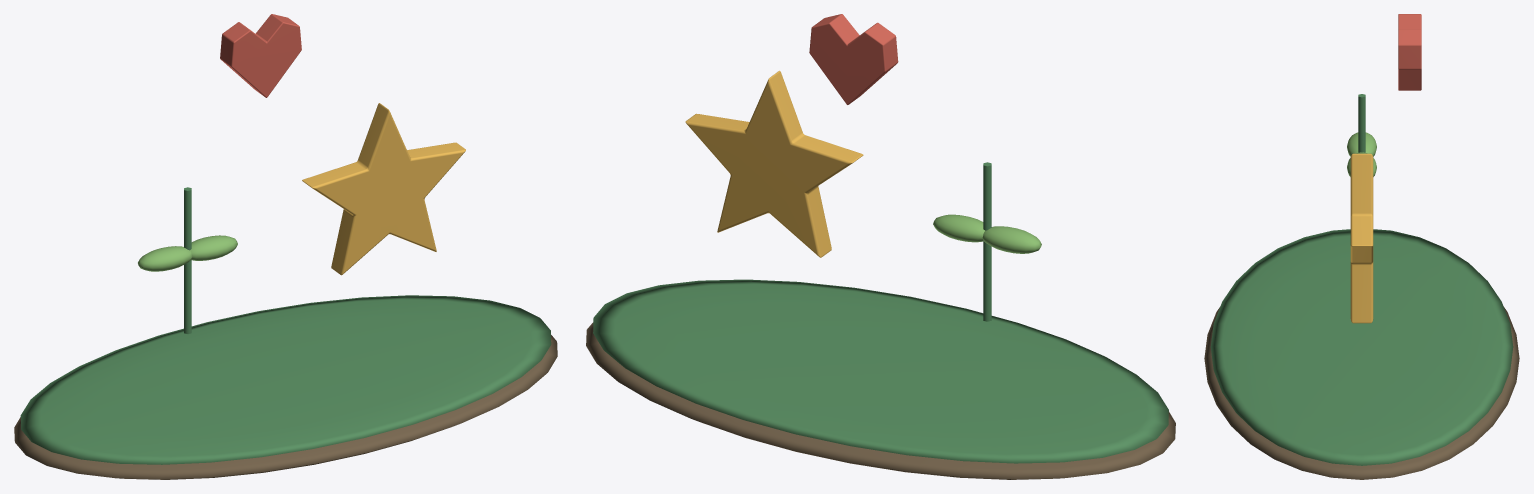
Rendered from complete-third-growing-idea-life-force.glb.
3 views of the same model, side by side, from view 1: azimuth 30°, elevation 25°; view 2: azimuth 150°, elevation 25°; view 3: azimuth 270°, elevation 25° (orthographic). The views are drawn at different scales.
Parts seen in each view (by area): view 1: complete-third-growing-idea-life-force_surface_01, complete-third-growing-idea-life-force_surface_03, complete-third-growing-idea-life-force_surface_00, complete-third-growing-idea-life-force_surface_04, complete-third-growing-idea-life-force_surface_02; view 2: complete-third-growing-idea-life-force_surface_01, complete-third-growing-idea-life-force_surface_03, complete-third-growing-idea-life-force_surface_00, complete-third-growing-idea-life-force_surface_04, complete-third-growing-idea-life-force_surface_02; view 3: complete-third-growing-idea-life-force_surface_01, complete-third-growing-idea-life-force_surface_00, complete-third-growing-idea-life-force_surface_03, complete-third-growing-idea-life-force_surface_04, complete-third-growing-idea-life-force_surface_02.
Part boxes in pixels (x1,y1,x2,y2): complete-third-growing-idea-life-force_surface_01: (20,187,551,464); complete-third-growing-idea-life-force_surface_03: (302,103,465,275); complete-third-growing-idea-life-force_surface_00: (14,335,557,479); complete-third-growing-idea-life-force_surface_04: (220,14,301,97); complete-third-growing-idea-life-force_surface_02: (138,235,237,271); complete-third-growing-idea-life-force_surface_01: (593,162,1168,463); complete-third-growing-idea-life-force_surface_03: (685,70,863,257); complete-third-growing-idea-life-force_surface_00: (586,322,1175,479); complete-third-growing-idea-life-force_surface_04: (809,14,898,104); complete-third-growing-idea-life-force_surface_02: (933,214,1041,253); complete-third-growing-idea-life-force_surface_01: (1210,94,1513,465); complete-third-growing-idea-life-force_surface_00: (1204,307,1519,479); complete-third-growing-idea-life-force_surface_03: (1350,153,1373,323); complete-third-growing-idea-life-force_surface_04: (1398,14,1421,90); complete-third-growing-idea-life-force_surface_02: (1347,132,1376,176).
Bounding box in the file's own units: 4.56 × 3.07 × 2.5.
